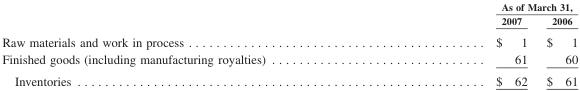table: (1, 0, 577, 87)
table column: (1, 0, 380, 87), (380, 0, 536, 87), (536, 0, 577, 87)
table column header: (1, 0, 577, 30)
table row: (1, 30, 577, 50), (1, 50, 577, 69), (1, 69, 577, 87), (1, 13, 577, 30), (1, 0, 577, 13)
table spanning cell: (380, 0, 577, 13)
